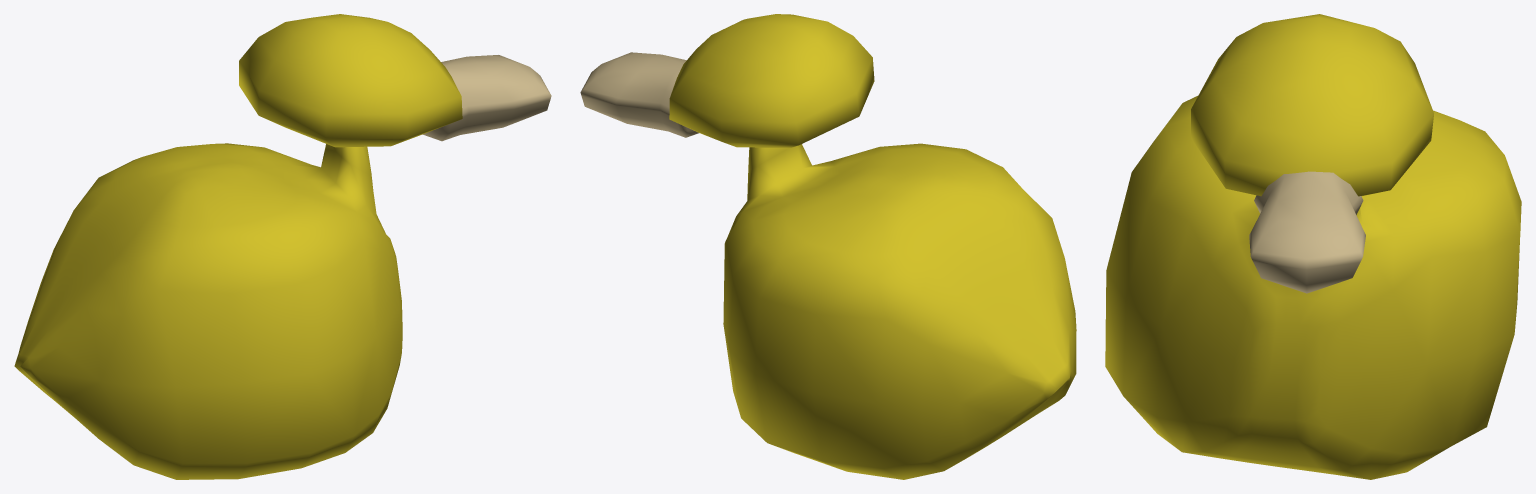
Rendered from yellow_baby_test.fbx.
3 renders of one model, left to right at view 1: azimuth 30°, elevation 25°; view 2: azimuth 150°, elevation 25°; view 3: azimuth 270°, elevation 25°, orthographic. The views are drawn at different scales.
Visible parts, largest first — view 1: polySurface11, polySurface12, polySurface13; view 2: polySurface11, polySurface12, polySurface13; view 3: polySurface11, polySurface12, polySurface13.
Boxes of the visible parts, box(x1,y1,x2,y2) form: polySurface11: box(14, 143, 402, 479); polySurface12: box(239, 14, 462, 147); polySurface13: box(422, 55, 551, 141); polySurface11: box(723, 143, 1076, 479); polySurface12: box(669, 14, 874, 147); polySurface13: box(580, 52, 698, 137); polySurface11: box(1105, 96, 1521, 479); polySurface12: box(1191, 14, 1433, 196); polySurface13: box(1249, 171, 1365, 293).
Bounding box in the file's own units: 5.2 × 3.85 × 3.12.
